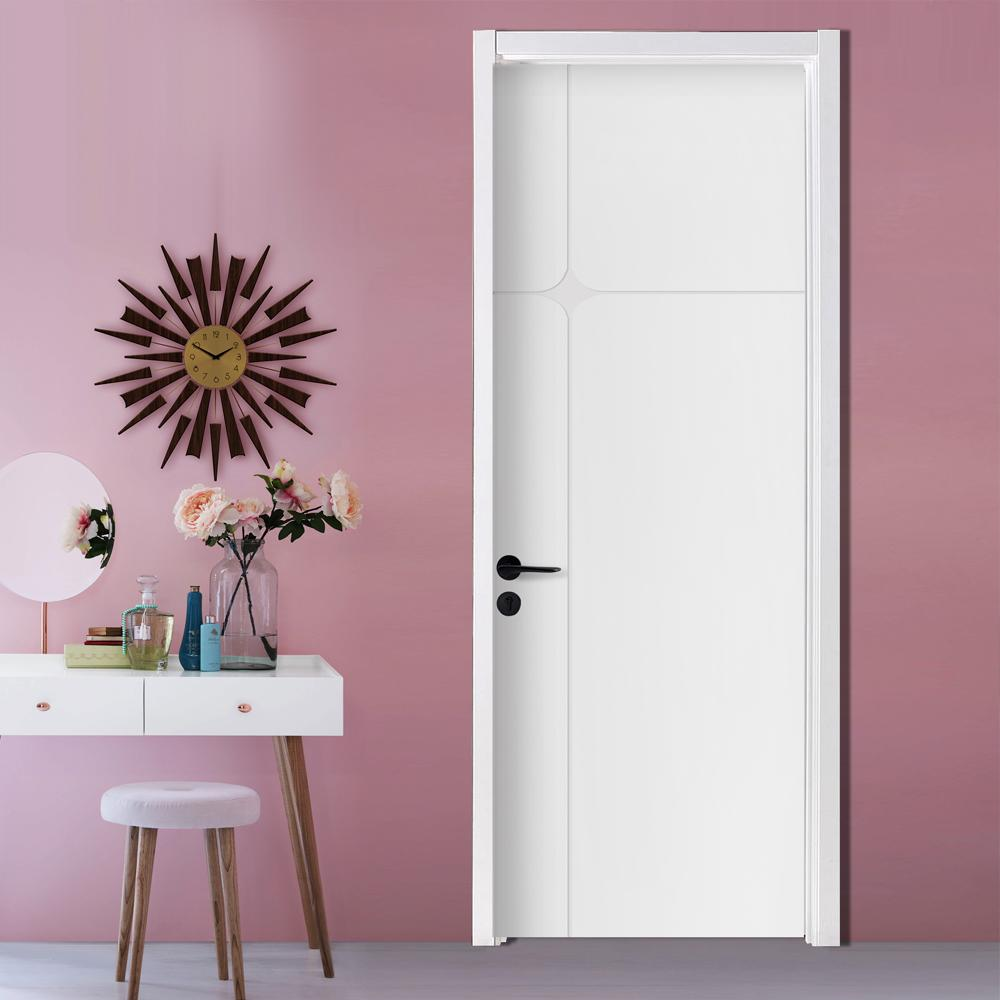door: (496, 63, 816, 950)
